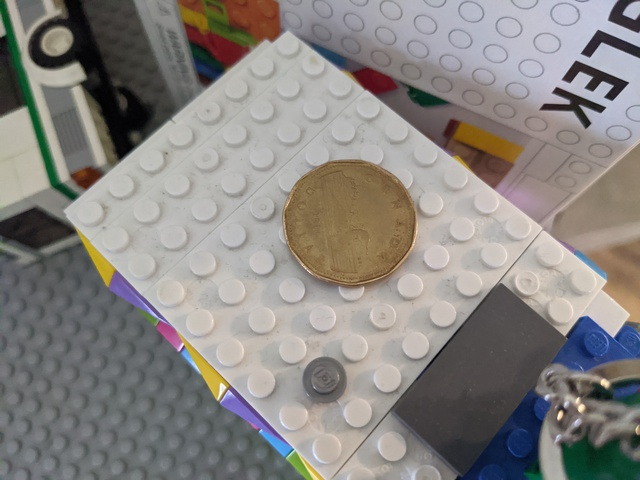loonie: (277, 154, 434, 283)
